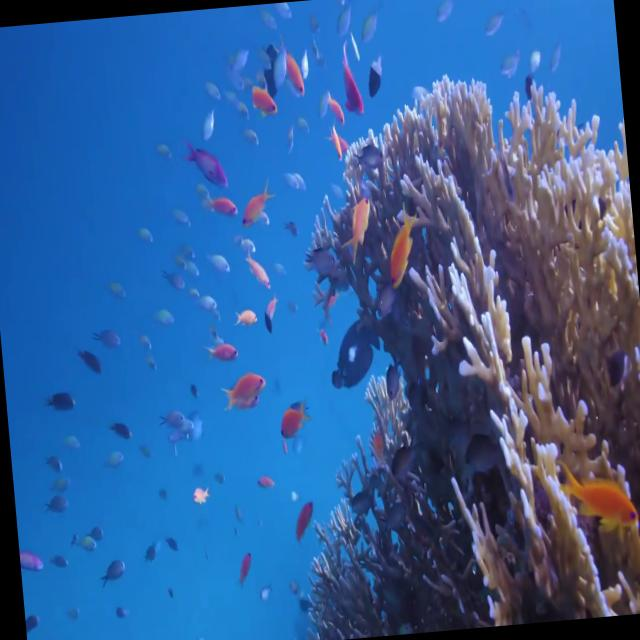fish: (562, 460, 638, 534), (327, 316, 381, 388), (383, 202, 420, 292), (182, 135, 230, 193), (343, 190, 376, 258), (236, 182, 276, 232), (338, 45, 364, 115), (222, 370, 265, 410), (279, 393, 314, 442), (363, 48, 388, 98), (290, 503, 317, 545)
